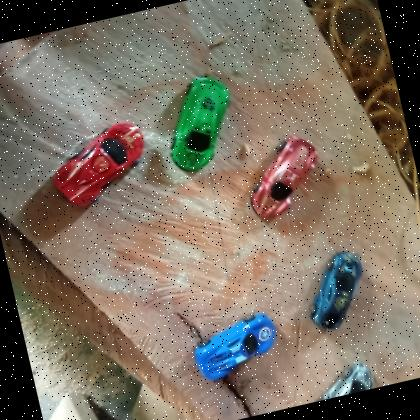Car: (40, 115, 158, 212), (154, 69, 245, 176), (238, 127, 332, 224), (187, 309, 284, 385), (297, 246, 375, 336)
